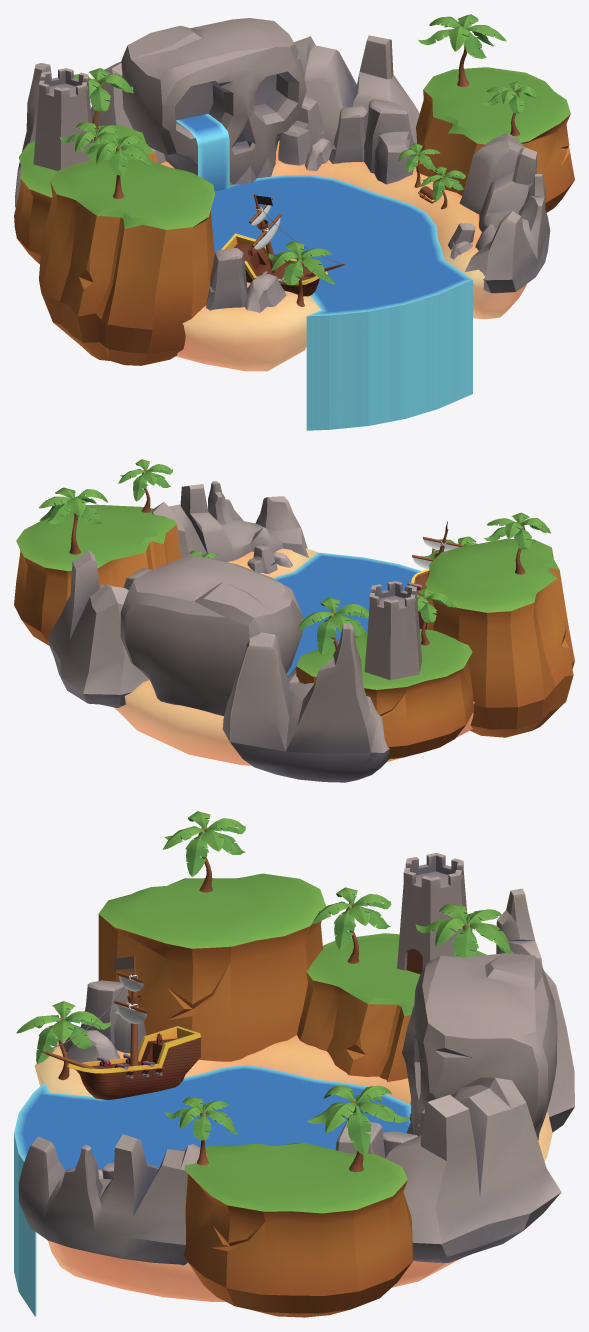
File: arena_pirate.glb
The picture shows the model from 3 angles, top to bottom: view 1: azimuth 30°, elevation 25°; view 2: azimuth 150°, elevation 25°; view 3: azimuth 270°, elevation 25°; orthographic projection. The views are drawn at different scales.
Visible parts, largest first — view 1: mesh_0_6, Cube001, mesh_0_1, mesh_0, mesh_0_7, mesh_0_3, mesh_0_2, mesh_0_8, mesh_0_4; view 2: mesh_0_6, mesh_0_1, mesh_0, mesh_0_3, Cube001, mesh_0_7, mesh_0_2, mesh_0_8; view 3: mesh_0_6, mesh_0_1, Cube001, mesh_0, mesh_0_3, mesh_0_7, mesh_0_8, mesh_0_2.
Boxes of the visible parts, box(x1,y1,x2,y2) form: mesh_0_6: box(14, 67, 574, 365); Cube001: box(210, 175, 472, 430); mesh_0_1: box(15, 35, 550, 312); mesh_0: box(121, 18, 306, 185); mesh_0_7: box(161, 141, 526, 371); mesh_0_3: box(60, 14, 541, 306); mesh_0_2: box(33, 68, 93, 170); mesh_0_8: box(221, 194, 344, 296); mesh_0_4: box(176, 114, 229, 191); mesh_0_6: box(14, 504, 574, 759); mesh_0_1: box(47, 481, 389, 782); mesh_0: box(120, 556, 302, 716); mesh_0_3: box(39, 459, 550, 654); Cube001: box(273, 552, 421, 676); mesh_0_7: box(114, 548, 474, 765); mesh_0_2: box(364, 581, 422, 680); mesh_0_8: box(404, 521, 464, 629); mesh_0_6: box(98, 873, 486, 1317); mesh_0_1: box(18, 888, 574, 1265); Cube001: box(14, 1065, 410, 1316); mesh_0: box(402, 953, 557, 1140); mesh_0_3: box(16, 811, 514, 1172); mesh_0_7: box(34, 1035, 552, 1301); mesh_0_8: box(41, 955, 200, 1099); mesh_0_2: box(397, 853, 467, 974).
Size of the model in its own units: 572 by 282 by 434.
Materials: 12 (12 with a texture image).
